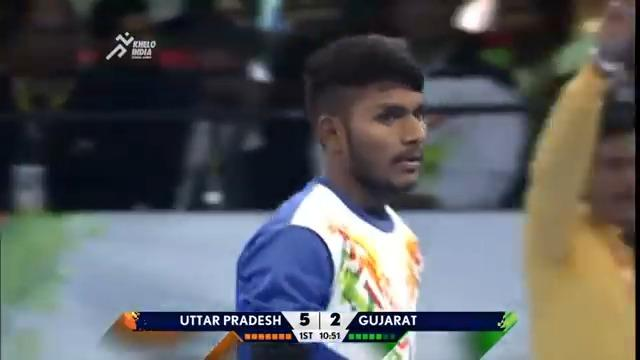Raider: (229, 32, 440, 358)
